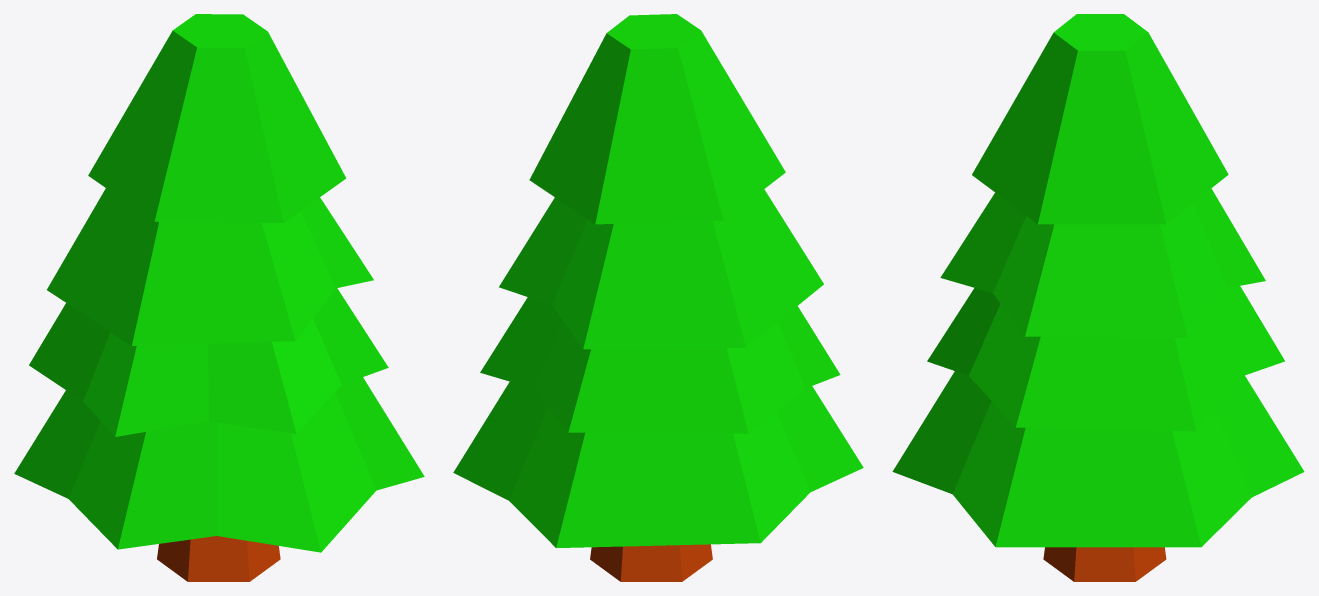
The model's file is Choinka5pozv2.fbx.
3 renders of one model, left to right at view 1: azimuth 30°, elevation 25°; view 2: azimuth 150°, elevation 25°; view 3: azimuth 270°, elevation 25°, orthographic.
Visible parts, largest first — view 1: Walec.001, Walec.005, Walec.003, Walec.002, Walec; view 2: Walec.001, Walec.005, Walec.003, Walec.002, Walec; view 3: Walec.001, Walec.005, Walec.003, Walec.002, Walec.
Boxes of the visible parts, bbox=[...] form: Walec.001: bbox=[14, 377, 424, 552]; Walec.005: bbox=[88, 14, 346, 222]; Walec.003: bbox=[47, 188, 373, 345]; Walec.002: bbox=[29, 288, 388, 436]; Walec: bbox=[157, 536, 280, 581]; Walec.001: bbox=[453, 381, 863, 548]; Walec.005: bbox=[529, 14, 785, 224]; Walec.003: bbox=[499, 189, 823, 349]; Walec.002: bbox=[480, 297, 840, 433]; Walec: bbox=[590, 544, 712, 581]; Walec.001: bbox=[892, 371, 1304, 547]; Walec.005: bbox=[972, 14, 1228, 224]; Walec.003: bbox=[940, 188, 1265, 338]; Walec.002: bbox=[927, 286, 1284, 431]; Walec: bbox=[1043, 547, 1166, 581].
Size of the model in its own units: 304 by 500 by 354.
